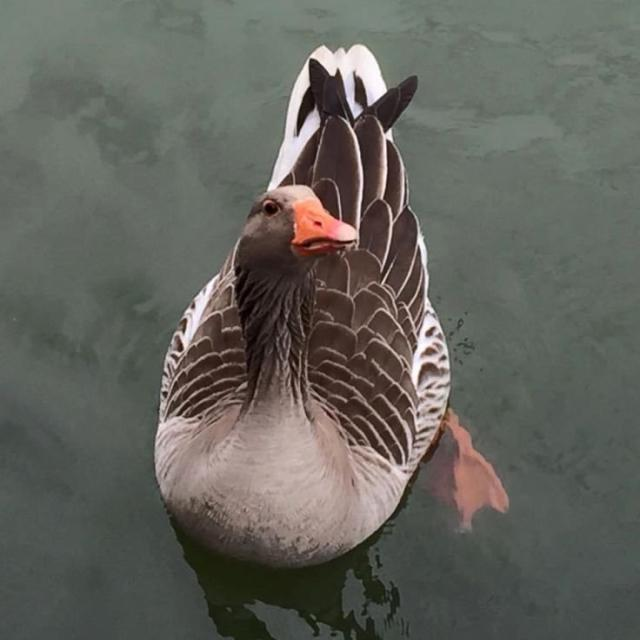Goose: (156, 41, 464, 594)
